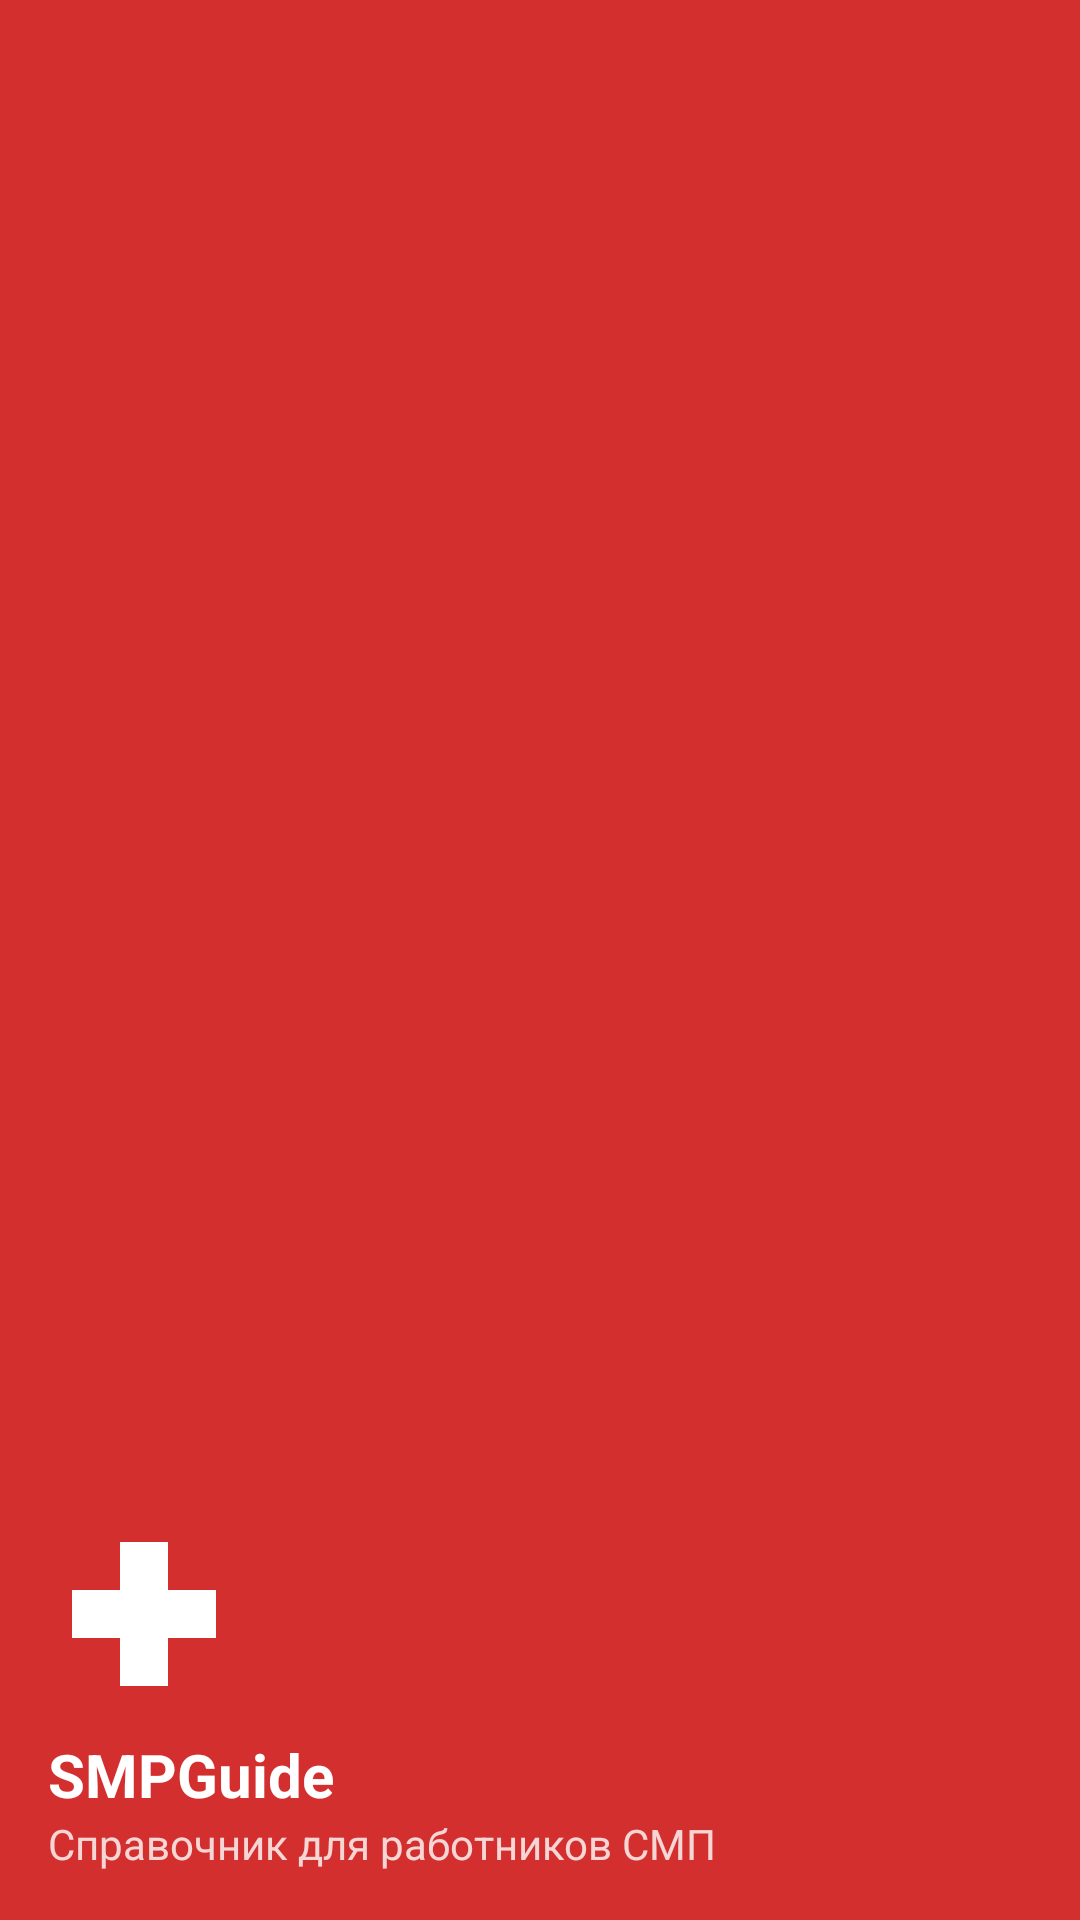

Named icons in this screenshot (1080 × 1920) and their centers, point (x, y):
cross: point (144, 1614)
